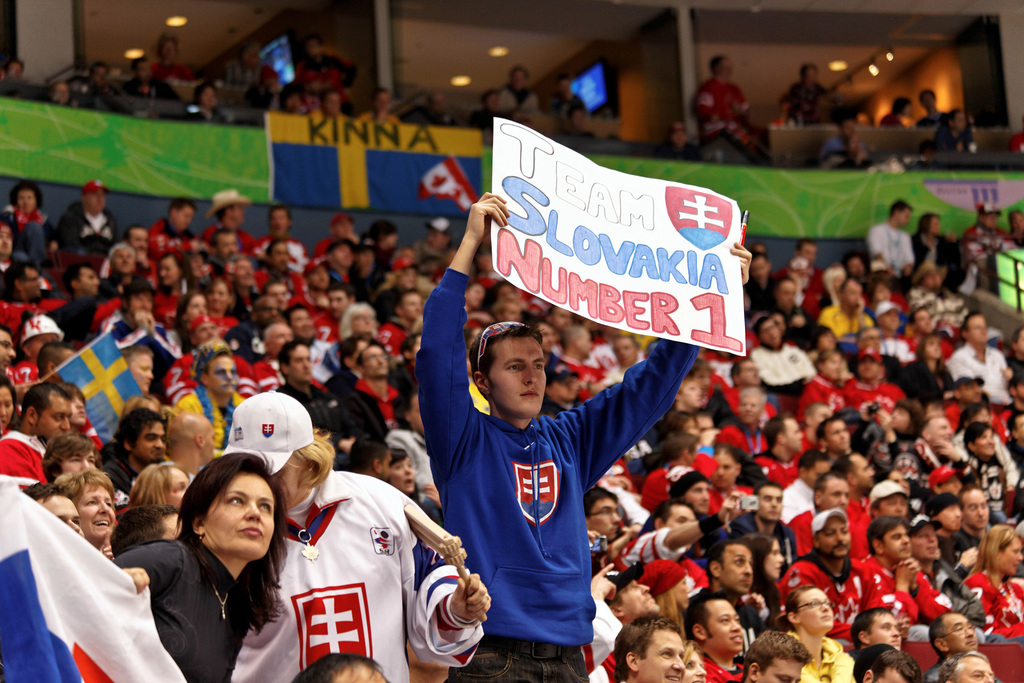Human-face: (203, 472, 276, 555), (488, 335, 547, 422), (79, 487, 120, 545), (641, 628, 685, 682), (707, 607, 745, 659), (868, 607, 904, 652), (723, 541, 755, 591), (800, 587, 834, 633), (131, 422, 168, 462), (820, 519, 852, 562), (943, 613, 980, 650), (884, 524, 913, 563), (756, 486, 785, 523), (759, 661, 803, 682), (767, 537, 788, 579), (685, 646, 708, 682)
